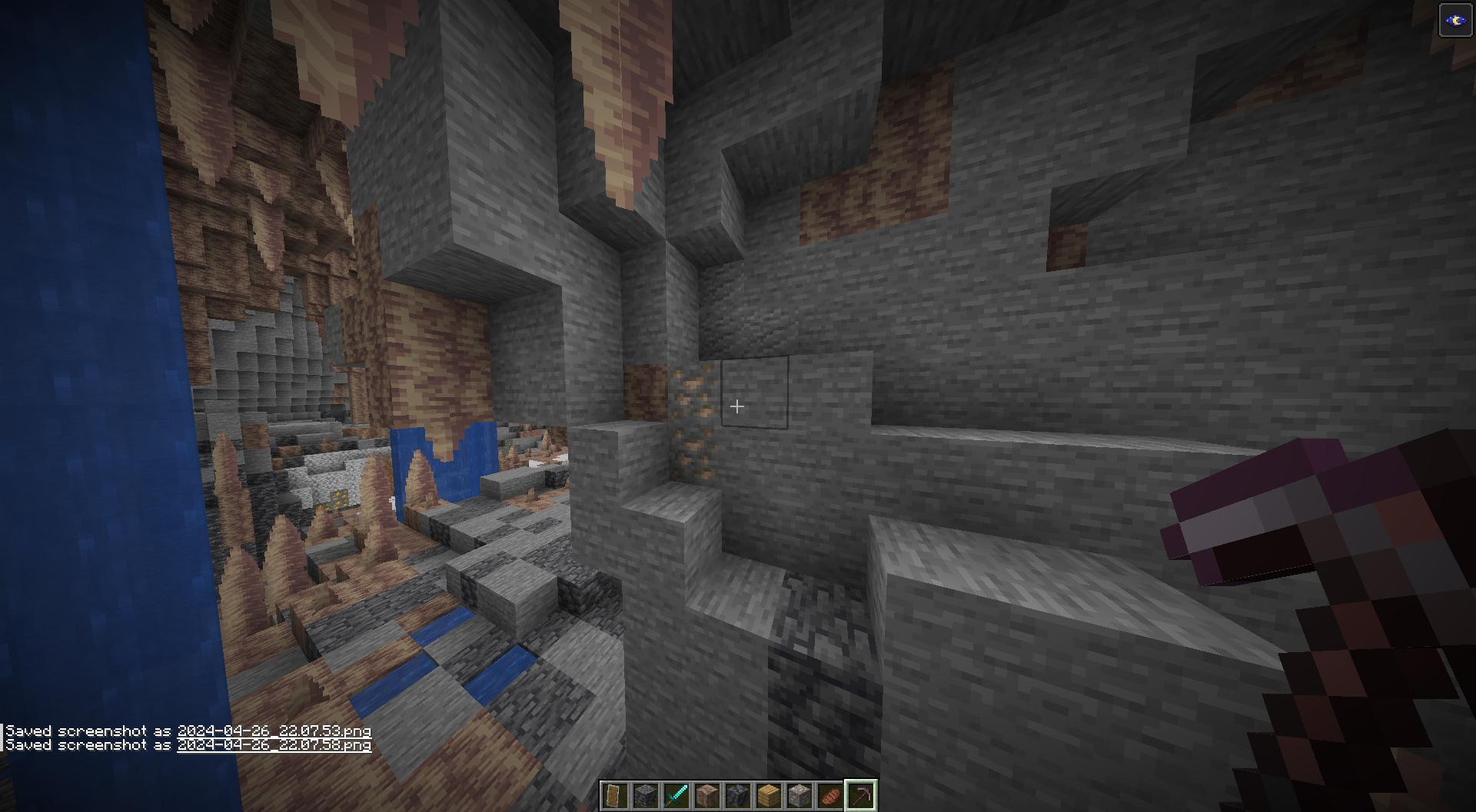gold ore: (316, 487, 351, 515)
iron ore: (667, 421, 722, 486), (668, 365, 722, 418)
